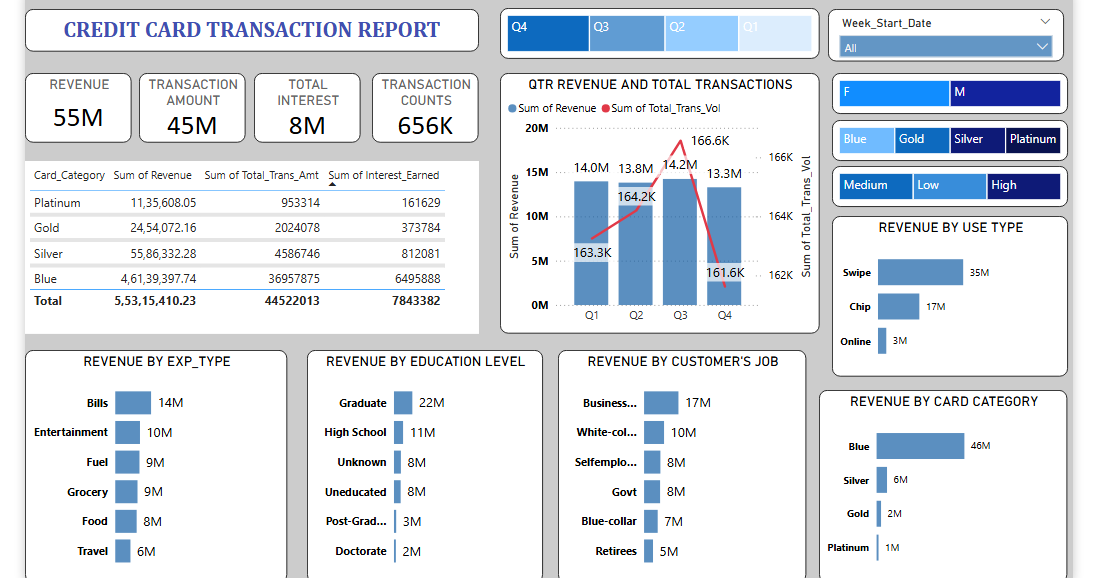

Layout of this report page (visuals, bound fields, positions):
{"tool":"powerbi","page":{"name":"Credit_Card_Transaction","canvas":[1280,720],"ordinal":0},"visuals":[{"type":"textbox","box":[0,21.2,553.6,51.6],"z":0},{"type":"lineStackedColumnComboChart","title":"QTR REVENUE AND TOTAL TRANSACTIONS","fields":{"Category":["credit_card_db.Qtr"],"Y":["Sum(credit_card_db.Revenue)"],"Y2":["Sum(credit_card_db.Total_Trans_Vol)"]},"box":[579.3,98.6,389.8,318.5],"z":1000},{"type":"barChart","title":"REVENUE BY EXP_TYPE","fields":{"Y":["Sum(credit_card_db.Revenue)"],"Category":["credit_card_db.Exp Type"]},"box":[0,436.8,320,283.6],"z":2000},{"type":"barChart","title":"REVENUE BY EDUCATION LEVEL","fields":{"Y":["Sum(credit_card_db.Revenue)"],"Category":["customer_db.Education_Level"]},"box":[344.3,436.8,288.2,283.6],"z":3000},{"type":"barChart","title":"REVENUE BY CUSTOMER''S JOB","fields":{"Y":["Sum(credit_card_db.Revenue)"],"Category":["customer_db.Customer_Job"]},"box":[650.6,436.8,303.3,283.6],"z":4000},{"type":"barChart","title":"REVENUE BY CARD CATEGORY","fields":{"Y":["Sum(credit_card_db.Revenue)"],"Category":["credit_card_db.Card_Category"]},"box":[969.1,485.3,303.3,235.1],"z":5000},{"type":"tableEx","title":"REVENUE BY USE TYPE","fields":{"Values":["credit_card_db.Card_Category","Sum(credit_card_db.Revenue)","Sum(credit_card_db.Total_Trans_Amt)","Sum(credit_card_db.Interest_Earned)"]},"box":[0,206.3,553.6,210.8],"z":6000},{"type":"barChart","title":"REVENUE BY USE TYPE","fields":{"Y":["Sum(credit_card_db.Revenue)"],"Category":["credit_card_db.Use Chip"]},"box":[984.3,273,288.2,195.6],"z":7000},{"type":"card","title":"REVENUE","fields":{"Values":["Sum(credit_card_db.Revenue)"]},"box":[0,98.6,130.4,84.9],"z":8000},{"type":"card","title":" TRANSACTION AMOUNT","fields":{"Values":["Sum(credit_card_db.Total_Trans_Amt)"]},"box":[139.5,98.6,130.4,84.9],"z":9000},{"type":"card","title":"TOTAL INTEREST","fields":{"Values":["Sum(credit_card_db.Interest_Earned)"]},"box":[279.1,98.6,130.4,84.9],"z":10000},{"type":"card","title":"TRANSACTION COUNTS","fields":{"Values":["Sum(credit_card_db.Total_Trans_Vol)"]},"box":[423.1,98.6,130.4,84.9],"z":11000},{"type":"slicer","fields":{"Values":["credit_card_db.Week_Start_Date"]},"box":[979.7,21.2,288.2,63.7],"z":12000},{"type":"treemap","fields":{"Group":["credit_card_db.Qtr"],"Values":["Avg(credit_card_db.Client_Num)"]},"box":[579.3,19.7,389.8,62.2],"z":13000},{"type":"treemap","fields":{"Group":["customer_db.Gender"],"Values":["Avg(credit_card_db.Client_Num)"]},"box":[984.3,98.6,288.2,50],"z":14000},{"type":"treemap","fields":{"Group":["customer_db.Income_Range"],"Values":["Avg(credit_card_db.Client_Num)"]},"box":[984.3,212.3,288.2,50],"z":15000},{"type":"treemap","fields":{"Group":["credit_card_db.Card_Category"],"Values":["Max(credit_card_db.Client_Num)"]},"box":[984.3,156.2,288.2,50],"z":16000}]}

Visuals, with their boxes in screenshot pixels (x1, y1, x2, y2):
textbox: [x1=20, y1=9, x2=475, y2=51]
"QTR REVENUE AND TOTAL TRANSACTIONS" lineStackedColumnComboChart: [x1=496, y1=73, x2=817, y2=334]
"REVENUE BY EXP_TYPE" barChart: [x1=20, y1=351, x2=283, y2=577]
"REVENUE BY EDUCATION LEVEL" barChart: [x1=303, y1=351, x2=540, y2=577]
"REVENUE BY CUSTOMER''S JOB" barChart: [x1=555, y1=351, x2=804, y2=577]
"REVENUE BY CARD CATEGORY" barChart: [x1=817, y1=390, x2=1066, y2=577]
"REVENUE BY USE TYPE" tableEx: [x1=20, y1=161, x2=475, y2=334]
"REVENUE BY USE TYPE" barChart: [x1=829, y1=216, x2=1066, y2=377]
"REVENUE" card: [x1=20, y1=73, x2=127, y2=142]
" TRANSACTION AMOUNT" card: [x1=135, y1=73, x2=242, y2=142]
"TOTAL INTEREST" card: [x1=249, y1=73, x2=357, y2=142]
"TRANSACTION COUNTS" card: [x1=368, y1=73, x2=475, y2=142]
slicer - credit_card_db.Week_Start_Date: [x1=825, y1=9, x2=1062, y2=61]
treemap - credit_card_db.Qtr x Avg(credit_card_db.Client_Num): [x1=496, y1=8, x2=817, y2=59]
treemap - customer_db.Gender x Avg(credit_card_db.Client_Num): [x1=829, y1=73, x2=1066, y2=114]
treemap - customer_db.Income_Range x Avg(credit_card_db.Client_Num): [x1=829, y1=166, x2=1066, y2=207]
treemap - credit_card_db.Card_Category x Max(credit_card_db.Client_Num): [x1=829, y1=120, x2=1066, y2=161]
